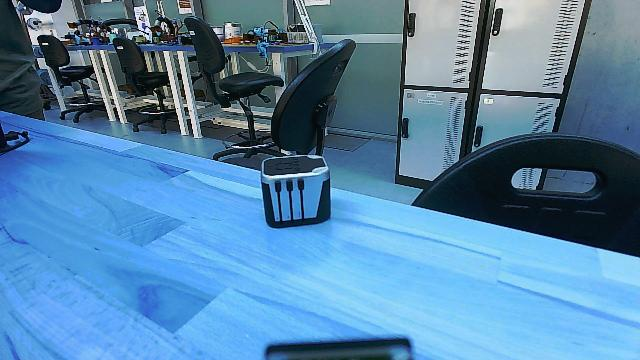adapter: (255, 144, 332, 232)
